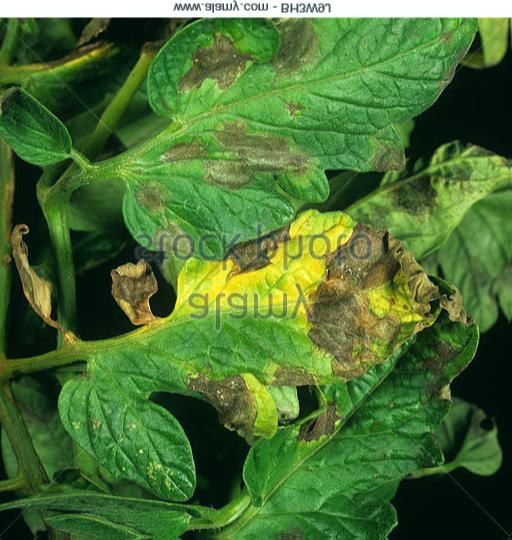Tomato leaf late blight: (58, 210, 466, 494), (95, 20, 464, 265)
